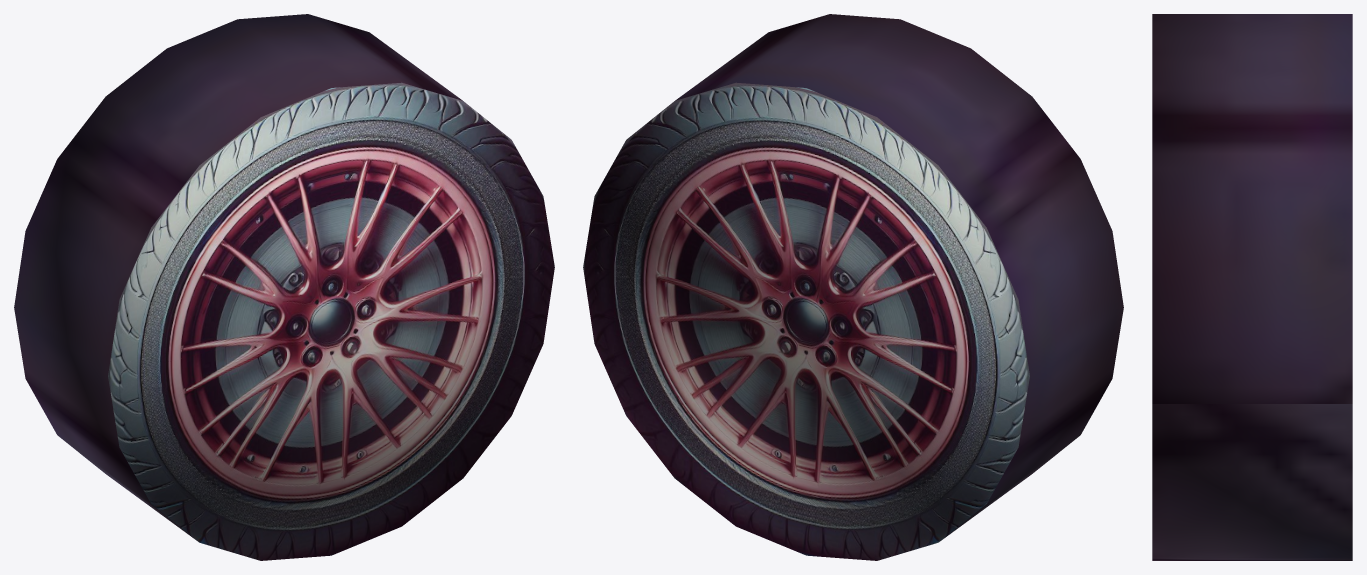
Rendered from LlantaDD.obj.
The picture shows the model from 3 angles, left to right: view 1: azimuth 30°, elevation 25°; view 2: azimuth 150°, elevation 25°; view 3: azimuth 270°, elevation 25°; orthographic projection. The views are drawn at different scales.
Parts seen in each view (by area): view 1: LlantaDI; view 2: LlantaDI; view 3: LlantaDI.
Part boxes in pixels (x1=…): LlantaDI: x1=14, y1=14, x2=554, y2=560; LlantaDI: x1=583, y1=14, x2=1123, y2=560; LlantaDI: x1=1152, y1=14, x2=1352, y2=560.
Bounding box in the file's own units: 7.28 × 7.28 × 2.65.
Materials: 1 (1 with a texture image).
